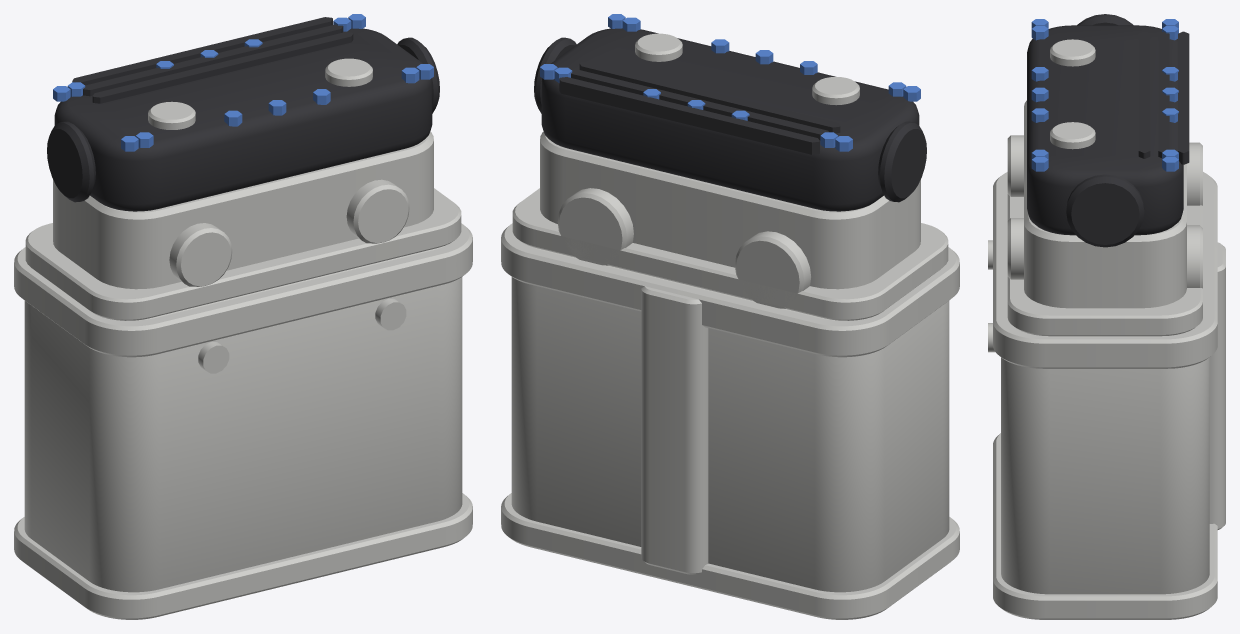
File: race_high_comp.glb
3 renders of one model, left to right at view 1: azimuth 30°, elevation 25°; view 2: azimuth 150°, elevation 25°; view 3: azimuth 270°, elevation 25°, orthographic. The views are drawn at different scales.
Visible parts, largest first — view 1: lod0; view 2: lod0; view 3: lod0.
Boxes of the visible parts, x1,y1,x2,y2 form: lod0: (14,14,472,619); lod0: (501,14,959,619); lod0: (988,14,1225,619).
Size of what is drawn, in the model's own units: 0.258 by 0.3 by 0.146.
